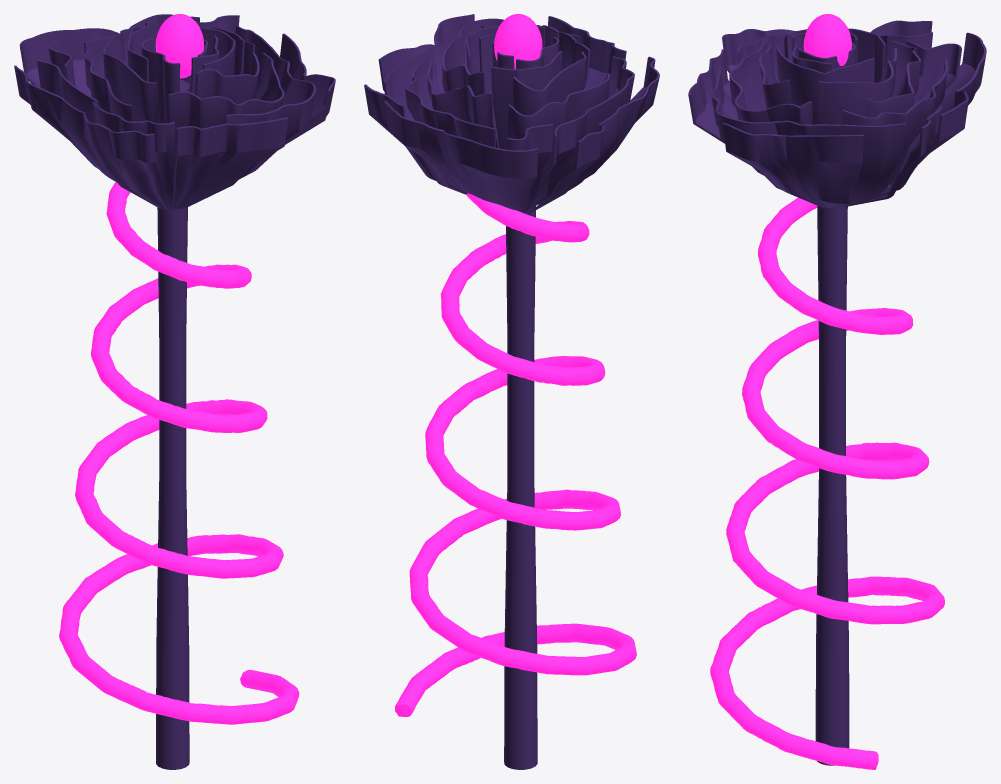
File: tempceiling floower.fbx
3 renders of one model, left to right at view 1: azimuth 30°, elevation 25°; view 2: azimuth 150°, elevation 25°; view 3: azimuth 270°, elevation 25°, orthographic.
Parts seen in each view (by area): view 1: BézierCurve; view 2: BézierCurve; view 3: BézierCurve.
Part boxes in pixels (x1=…): BézierCurve: x1=14, y1=14, x2=335, y2=769; BézierCurve: x1=364, y1=14, x2=659, y2=769; BézierCurve: x1=688, y1=14, x2=986, y2=769.
Bounding box in the file's own units: 524 × 1553 × 563.
